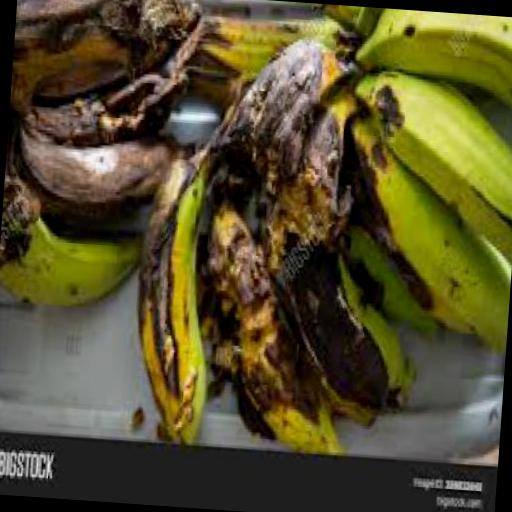biodegradable: (247, 80, 436, 427), (186, 178, 362, 456), (332, 112, 512, 353), (6, 2, 208, 169), (338, 69, 512, 254), (124, 136, 220, 446), (10, 0, 197, 123), (0, 160, 143, 310), (8, 117, 195, 225), (348, 6, 512, 113), (191, 1, 357, 95), (330, 218, 452, 334), (182, 52, 253, 113), (307, 3, 378, 40), (202, 369, 226, 396), (129, 401, 143, 419)
